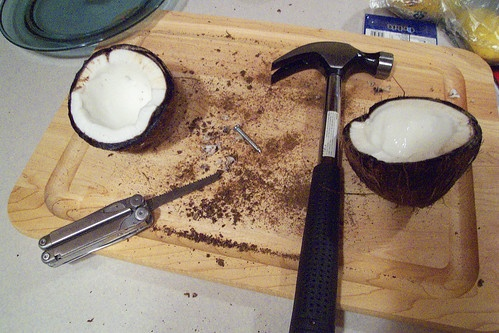hammer: (269, 39, 396, 333)
